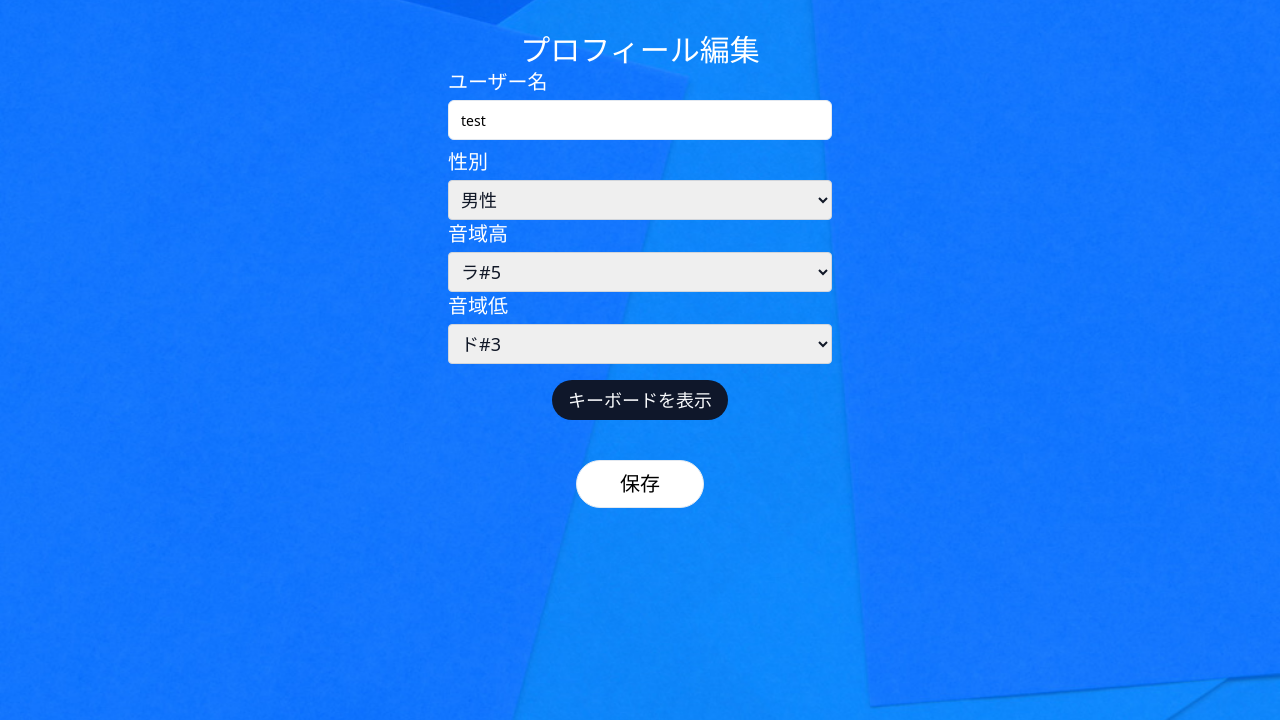
Test case: プロフィール編集ページ › キーボードを表示ボタンをクリックするとモーダルが開く
Click the button "キーボードを表示".
click(640, 400)  # box x1=552 y1=380 x2=728 y2=420
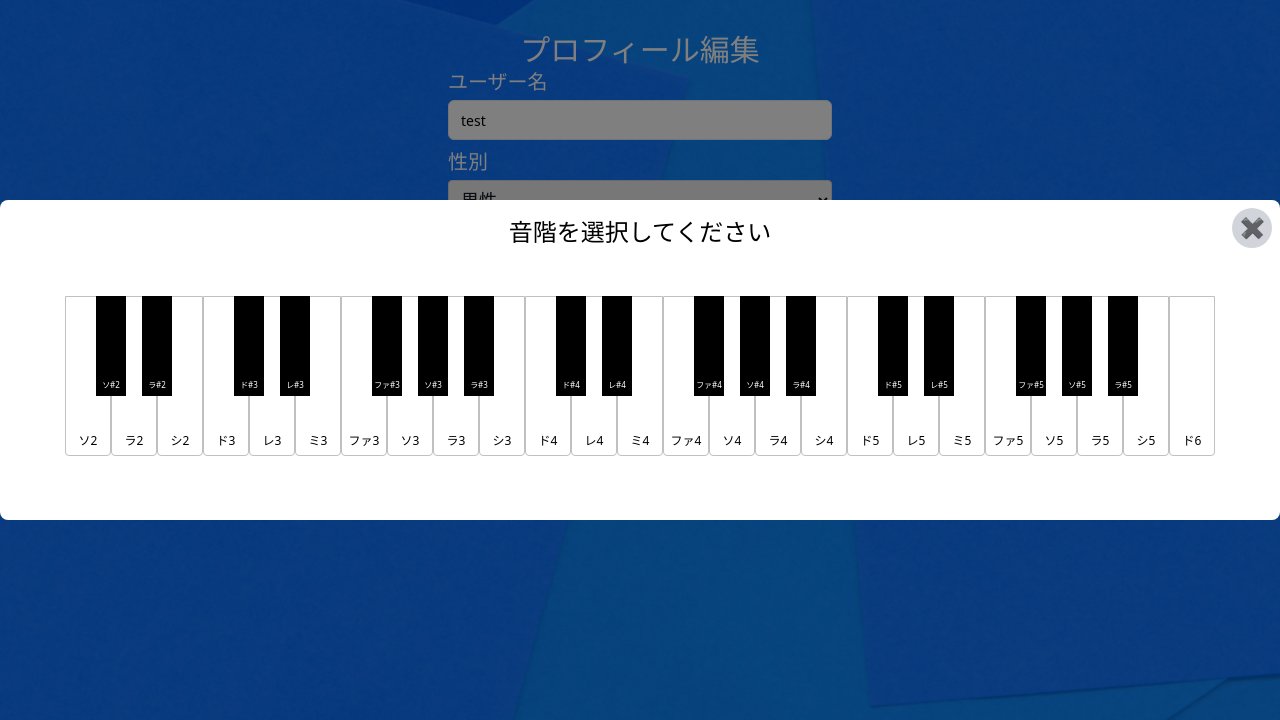
Expected: the heading "音階を選択してください" is shown, x1=509 y1=215 x2=771 y2=248
